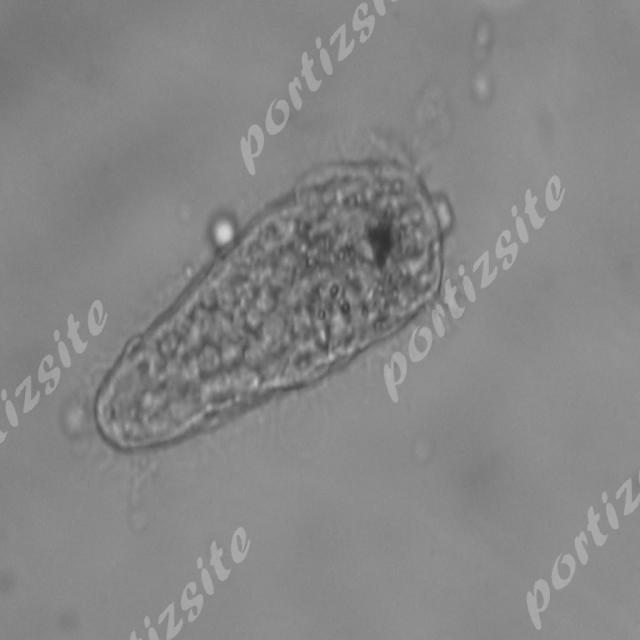Fasciola Hepatica: (87, 146, 451, 462)
